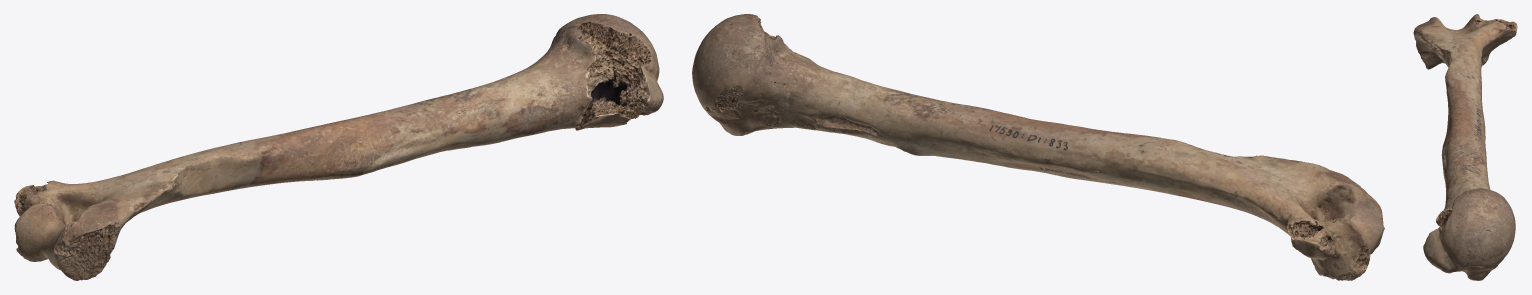
File: humerus_with_injuries_-_1136478-optimized.glb
The picture shows the model from 3 angles, left to right: view 1: azimuth 30°, elevation 25°; view 2: azimuth 150°, elevation 25°; view 3: azimuth 270°, elevation 25°; orthographic projection. The views are drawn at different scales.
Visible parts, largest first — view 1: Object_2, Object_3; view 2: Object_2, Object_3; view 3: Object_2, Object_3.
Boxes of the visible parts, bbox=[...] form: Object_2: bbox=[14, 14, 663, 280]; Object_3: bbox=[548, 14, 663, 130]; Object_2: bbox=[692, 14, 1384, 280]; Object_3: bbox=[692, 15, 813, 135]; Object_2: bbox=[1413, 14, 1517, 280]; Object_3: bbox=[1433, 189, 1514, 279].
Bounding box in the file's own units: 35.19 × 5.75 × 6.4.
1 material, 1 textured.
